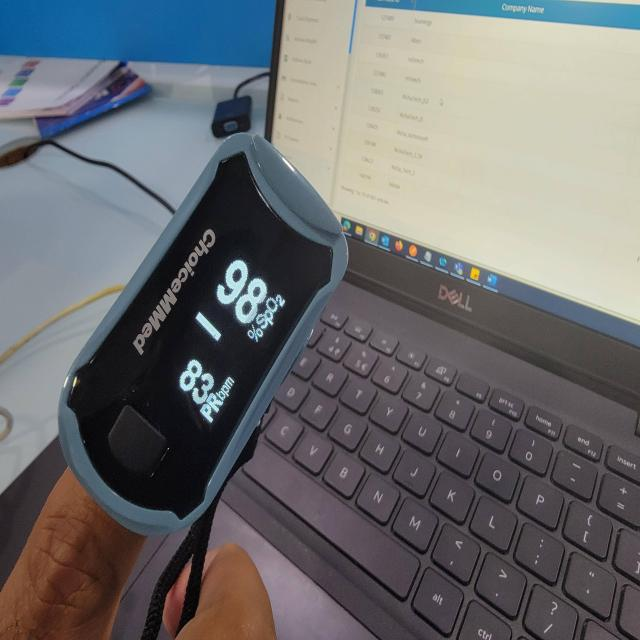spo2: (56, 131, 350, 640)
